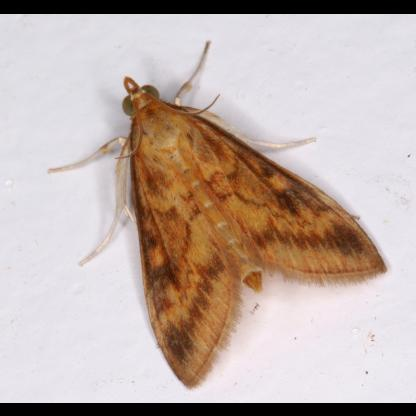Asian Corn Borer Moth: (44, 36, 390, 394)
